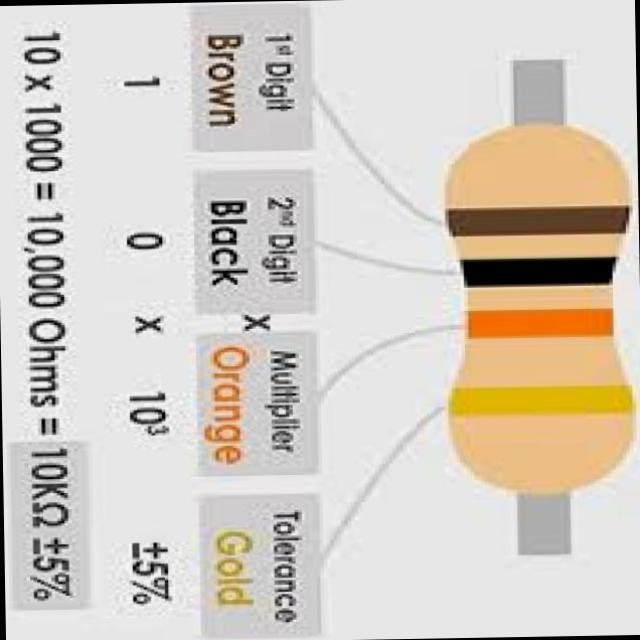Resistor: (445, 126, 634, 495)
black: (455, 251, 619, 283)
brown: (438, 202, 635, 235)
gold: (445, 383, 636, 415)
orange: (460, 300, 620, 338)
